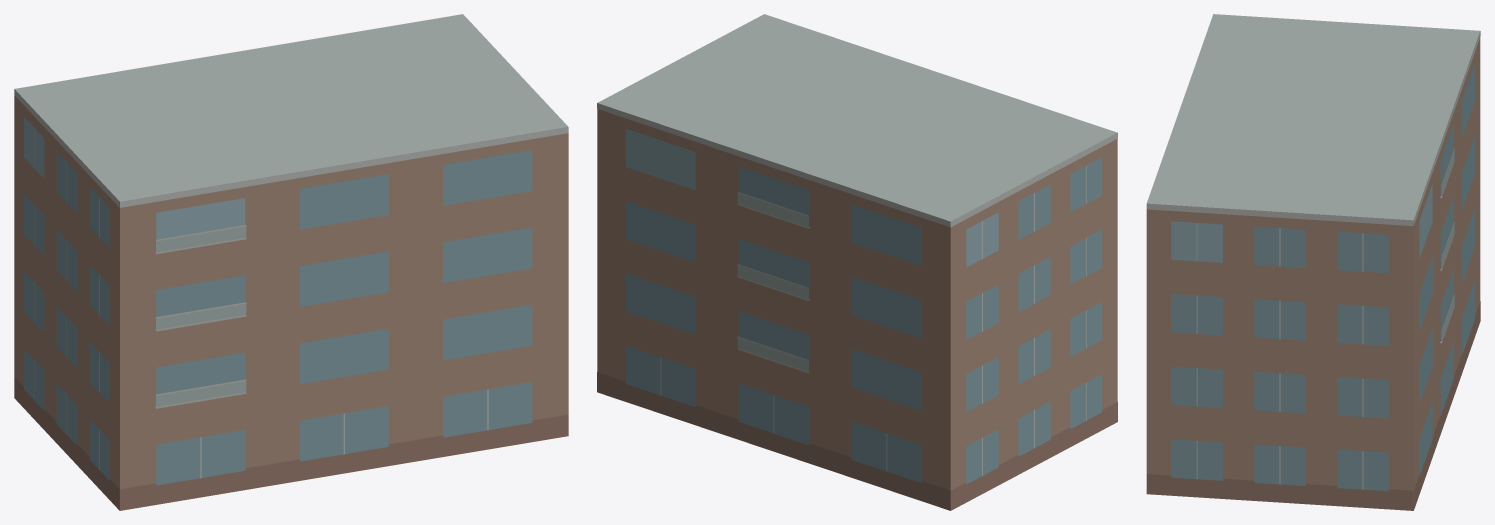
The model's file is residential-ca2a0872-ea85-4fa7-926e-bf4b03a28cf6.glb.
3 renders of one model, left to right at view 1: azimuth 30°, elevation 25°; view 2: azimuth 150°, elevation 25°; view 3: azimuth 270°, elevation 25°, orthographic. The views are drawn at different scales.
Parts seen in each view (by area): view 1: residential-ca2a0872-ea85-4fa7-926e-bf4b03a28cf6.tmp; view 2: residential-ca2a0872-ea85-4fa7-926e-bf4b03a28cf6.tmp; view 3: residential-ca2a0872-ea85-4fa7-926e-bf4b03a28cf6.tmp.
Part boxes in pixels (x1=…): residential-ca2a0872-ea85-4fa7-926e-bf4b03a28cf6.tmp: x1=14, y1=14, x2=568, y2=510; residential-ca2a0872-ea85-4fa7-926e-bf4b03a28cf6.tmp: x1=597, y1=14, x2=1117, y2=510; residential-ca2a0872-ea85-4fa7-926e-bf4b03a28cf6.tmp: x1=1146, y1=14, x2=1480, y2=510.
Bounding box in the file's own units: 18.59 × 12.2 × 12.71.
